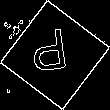P_S: (33, 27, 77, 83)
